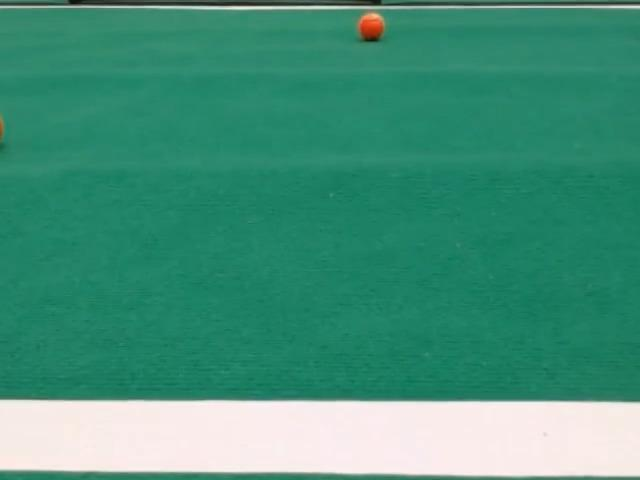Ball: (357, 13, 384, 41), (0, 116, 2, 139)
